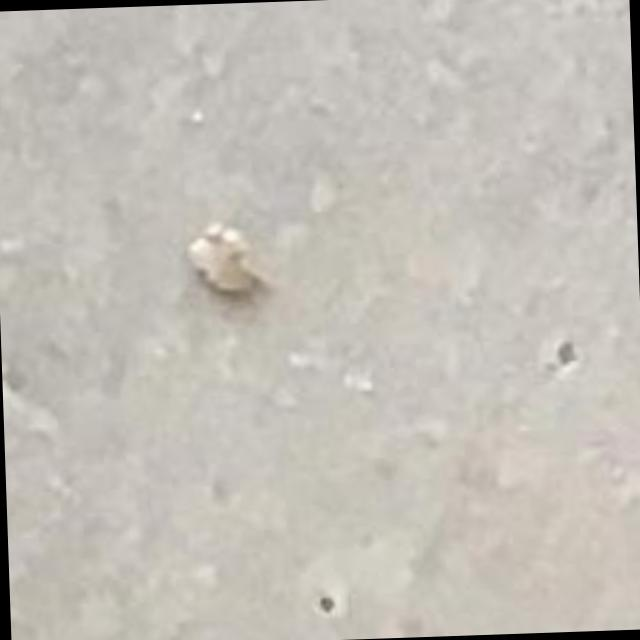peeling plaster: (186, 221, 260, 299)
